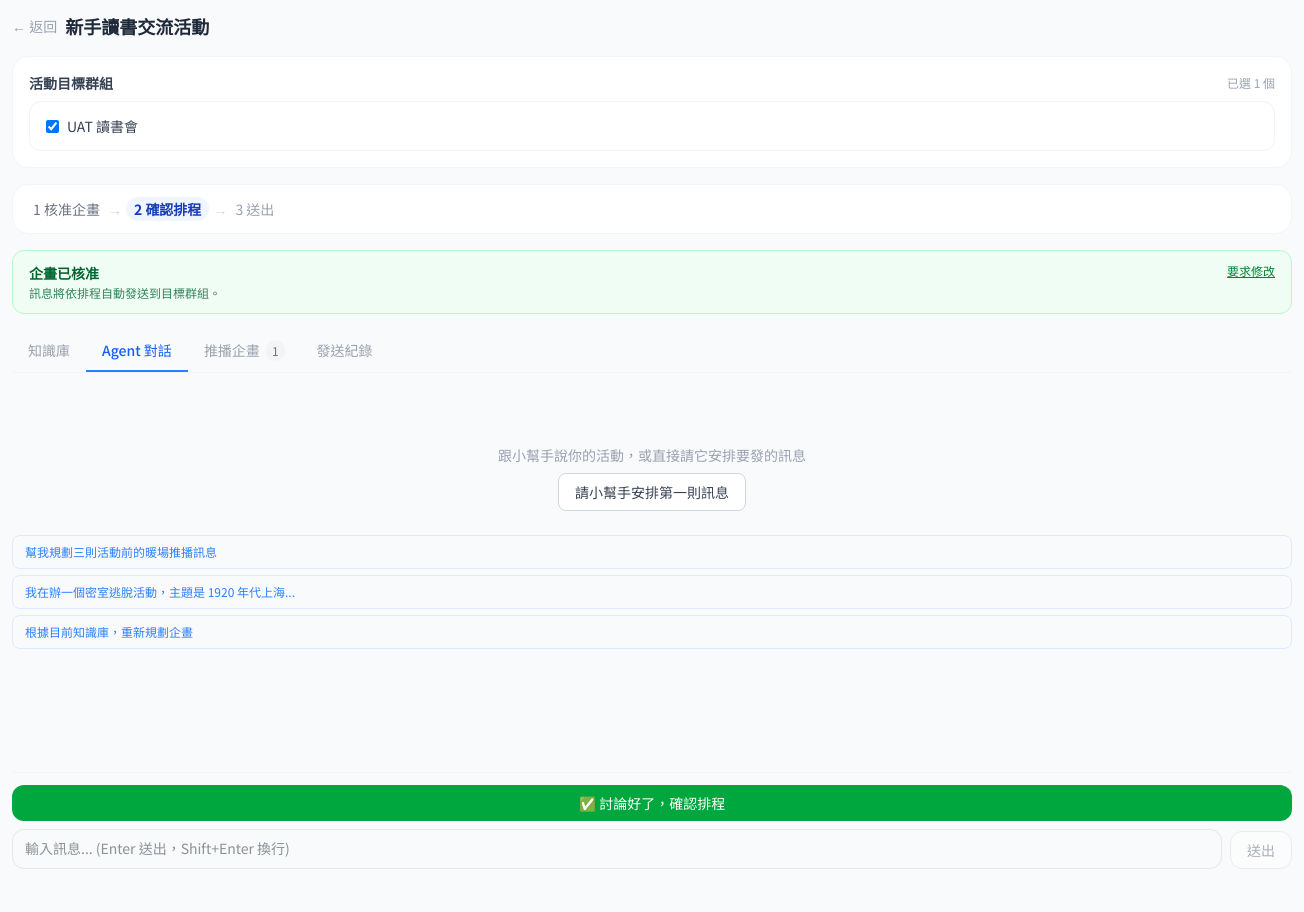
Test case: Activity detail — one primary action › shows the same primary on the plan tab, and opening it returns to the conversation
Expected: the heading "新手讀書交流活動" is shown, [65, 12, 209, 40]
Click the button "推播企畫1". click: (244, 351)
box: [188, 330, 301, 372]
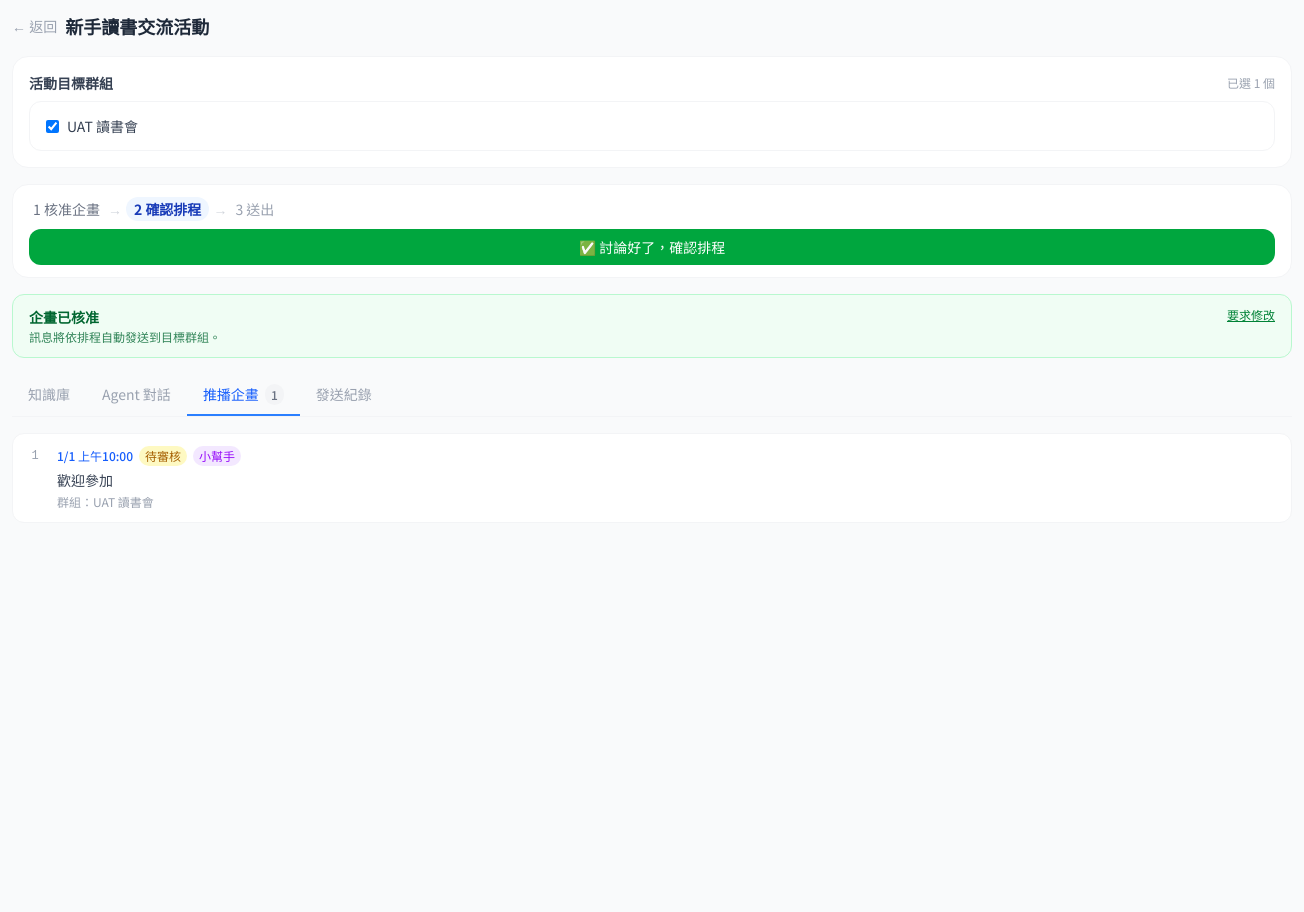
Expected: the field with placeholder "輸入訊息" is not shown
Click the button "✅ 討論好了，確認排程". click: (652, 247)
box: [29, 229, 1275, 265]
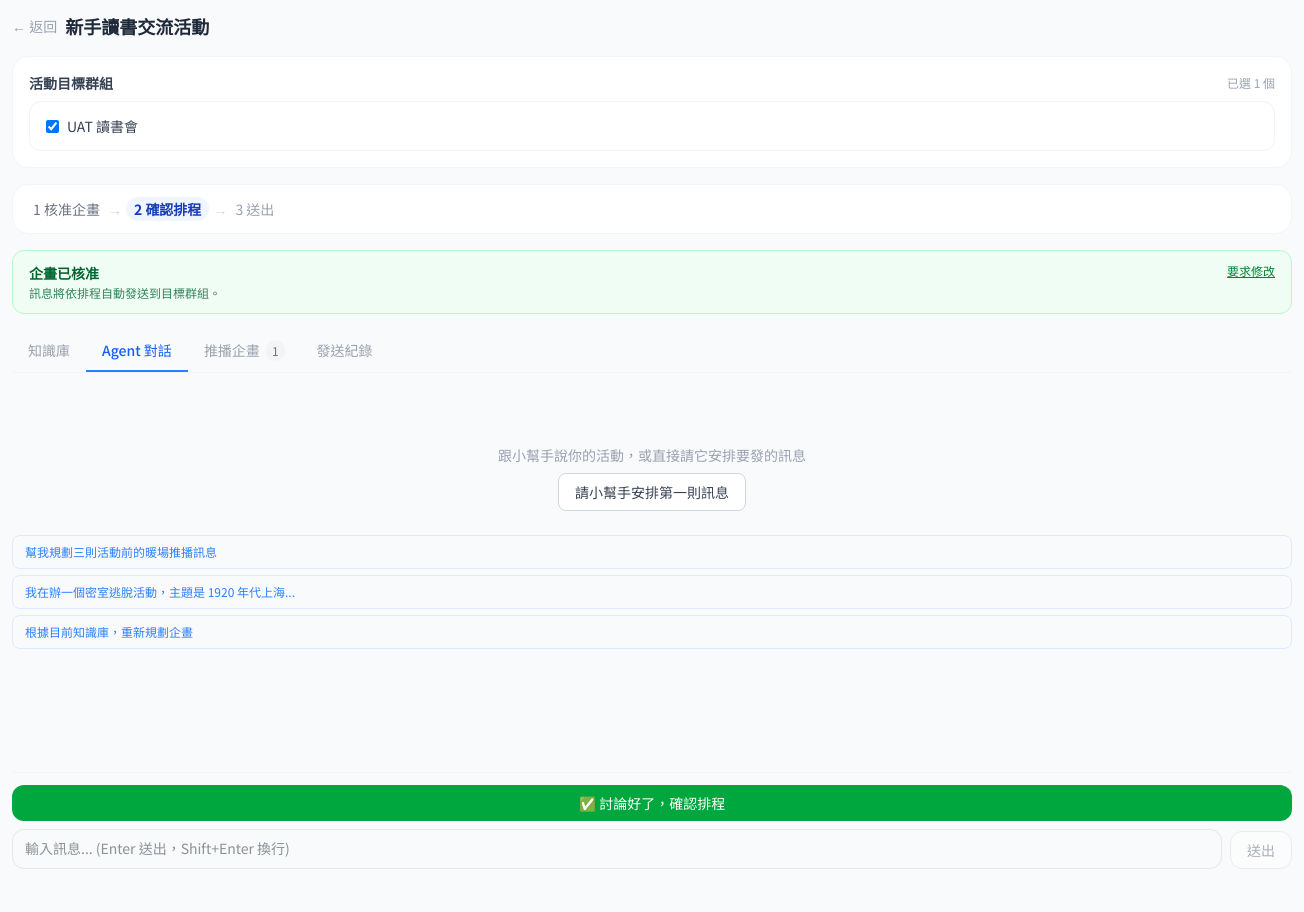
Expected: the text box with placeholder "輸入訊息... (Enter 送出，Shift+Enter 換行)" is shown, [12, 829, 1222, 869]
